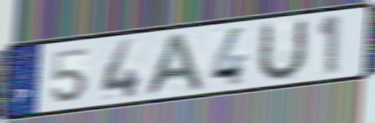1: (316, 13, 342, 78)
4: (98, 37, 146, 101), (206, 26, 250, 88)
5: (48, 46, 91, 105)
A: (141, 30, 207, 100)
U: (254, 16, 310, 85)
